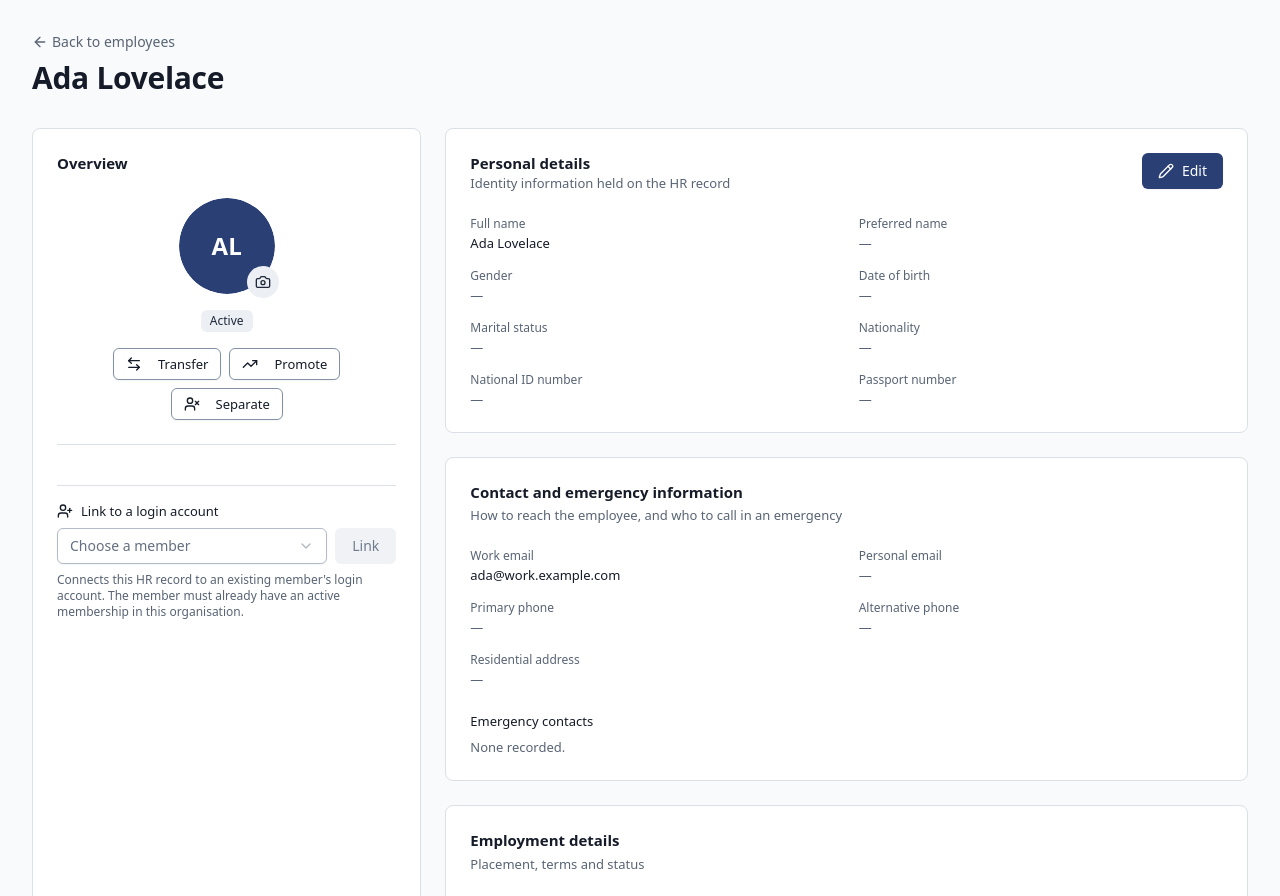
Employee detail page › Separate dialog — non-blocking warnings (Phase 3H, W118, §11) › shows no warning banner when nothing is outstanding
Click the button with test id "button-separate-employee" at (227, 404), box [171,388,283,420]
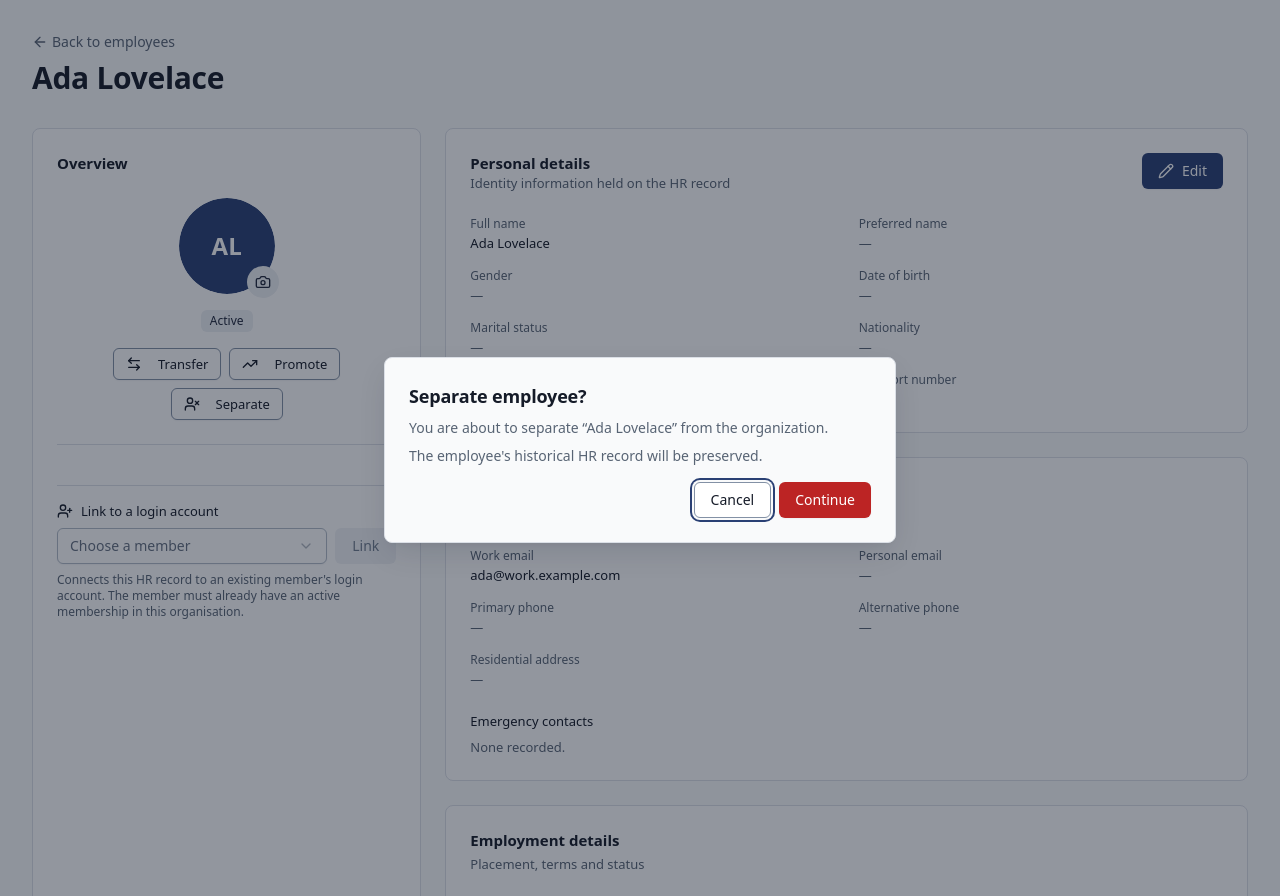
Click the button with test id "dialog-confirm-separate-employee-confirm" at (825, 500), box [779,482,871,518]
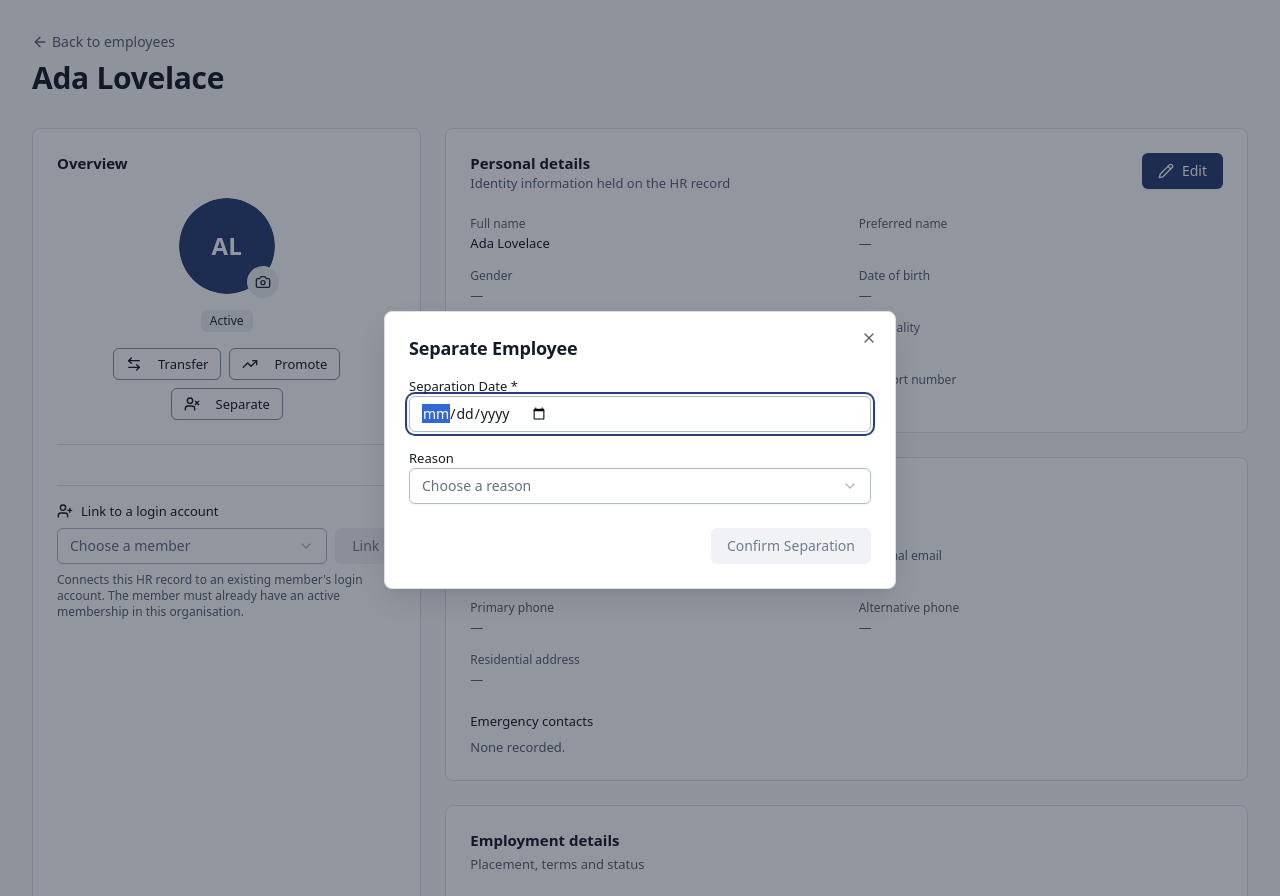
Check: the date field with test id "input-separation-date" is shown, box [409,396,871,432]
